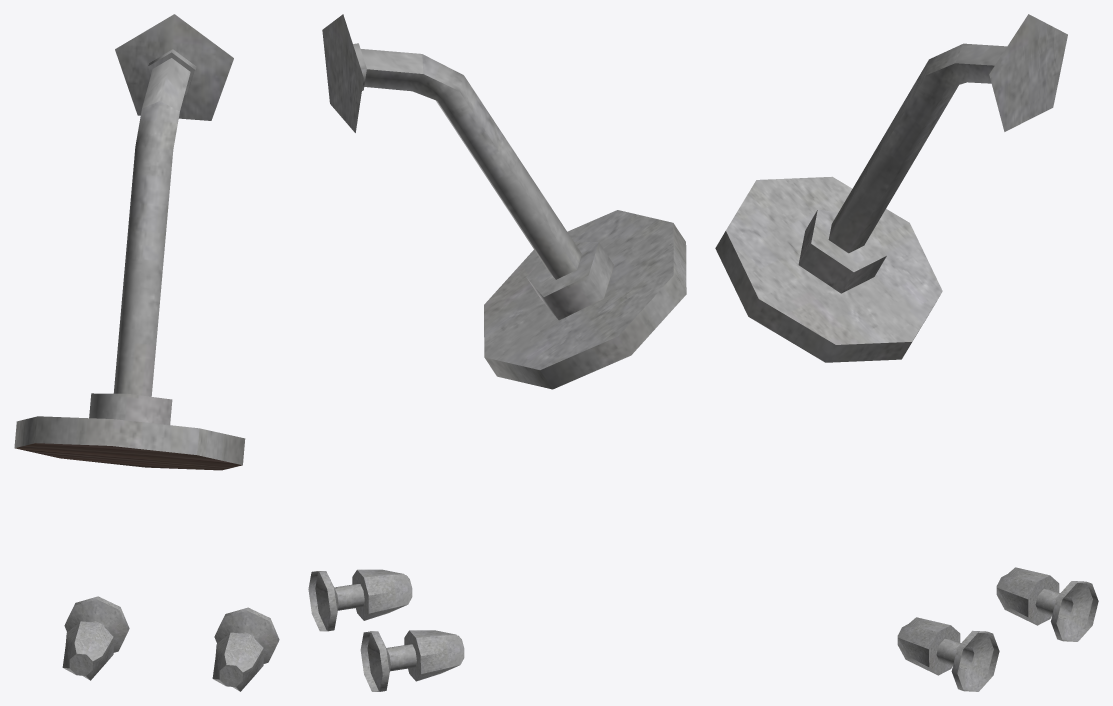
The picture shows the model from 3 angles, left to right: view 1: azimuth 30°, elevation 25°; view 2: azimuth 150°, elevation 25°; view 3: azimuth 270°, elevation 25°; orthographic projection.
Parts seen in each view (by area): view 1: Watering_can_01001_Metal_01001_0, Watering_can_01001_Electronics_0, Manija_04002_Metal_01001_0, Manija_04003_Metal_01001_0, B_03003_Metal_01001_0, B_03002_Metal_01001_0; view 2: Watering_can_01001_Metal_01001_0, Manija_04002_Metal_01001_0, Manija_04003_Metal_01001_0, B_03003_Metal_01001_0, B_03002_Metal_01001_0; view 3: Watering_can_01001_Metal_01001_0, B_03003_Metal_01001_0, B_03002_Metal_01001_0, Manija_04003_Metal_01001_0, Manija_04002_Metal_01001_0.
Boxes of the visible parts, bbox=[...] form: Watering_can_01001_Metal_01001_0: bbox=[14, 14, 245, 465]; Watering_can_01001_Electronics_0: bbox=[15, 443, 242, 470]; Manija_04002_Metal_01001_0: bbox=[212, 632, 263, 691]; Manija_04003_Metal_01001_0: bbox=[62, 621, 113, 680]; B_03003_Metal_01001_0: bbox=[64, 596, 129, 652]; B_03002_Metal_01001_0: bbox=[214, 607, 279, 663]; Watering_can_01001_Metal_01001_0: bbox=[322, 14, 686, 389]; Manija_04002_Metal_01001_0: bbox=[352, 569, 412, 620]; Manija_04003_Metal_01001_0: bbox=[404, 630, 464, 681]; B_03003_Metal_01001_0: bbox=[360, 631, 416, 691]; B_03002_Metal_01001_0: bbox=[308, 571, 364, 631]; Watering_can_01001_Metal_01001_0: bbox=[715, 14, 1067, 362]; B_03003_Metal_01001_0: bbox=[1035, 581, 1098, 641]; B_03002_Metal_01001_0: bbox=[936, 630, 999, 691]; Manija_04003_Metal_01001_0: bbox=[996, 567, 1059, 625]; Manija_04002_Metal_01001_0: bbox=[897, 617, 960, 675].
Bounding box in the file's own units: 0.5185 × 1.03 × 0.547.
Materials: 2 (2 with a texture image).
